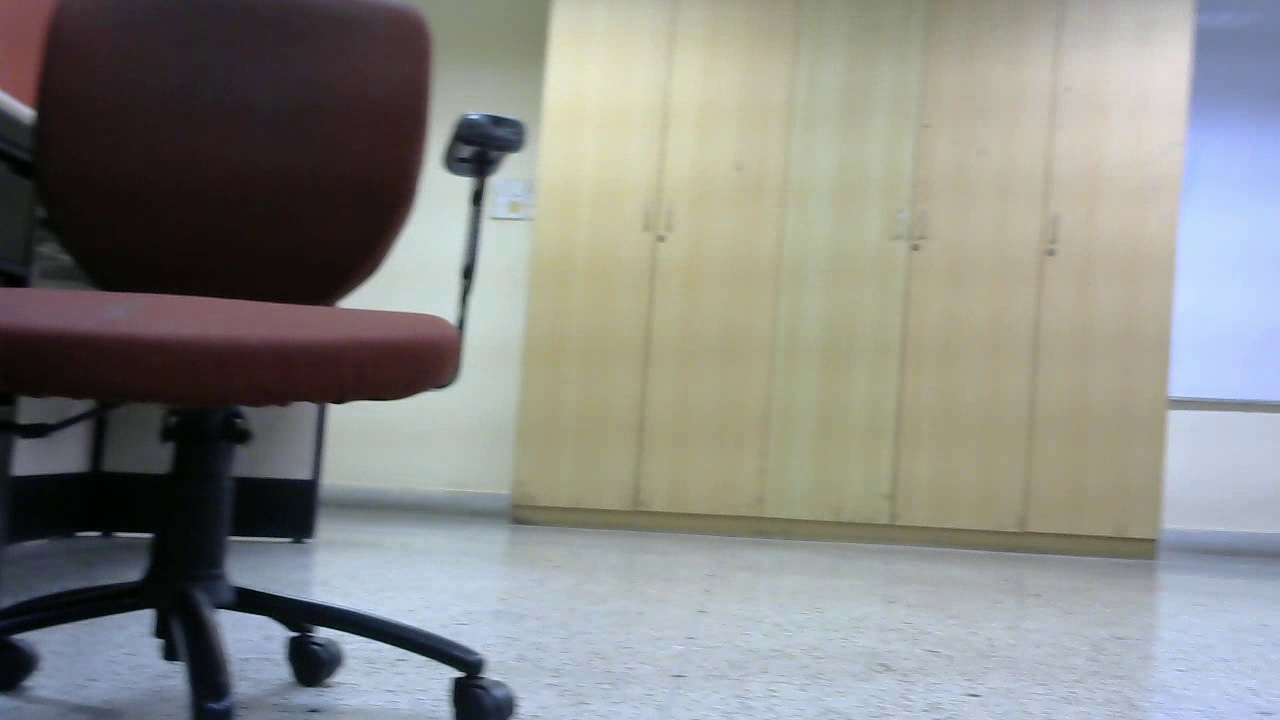chair: (3, 2, 547, 720)
